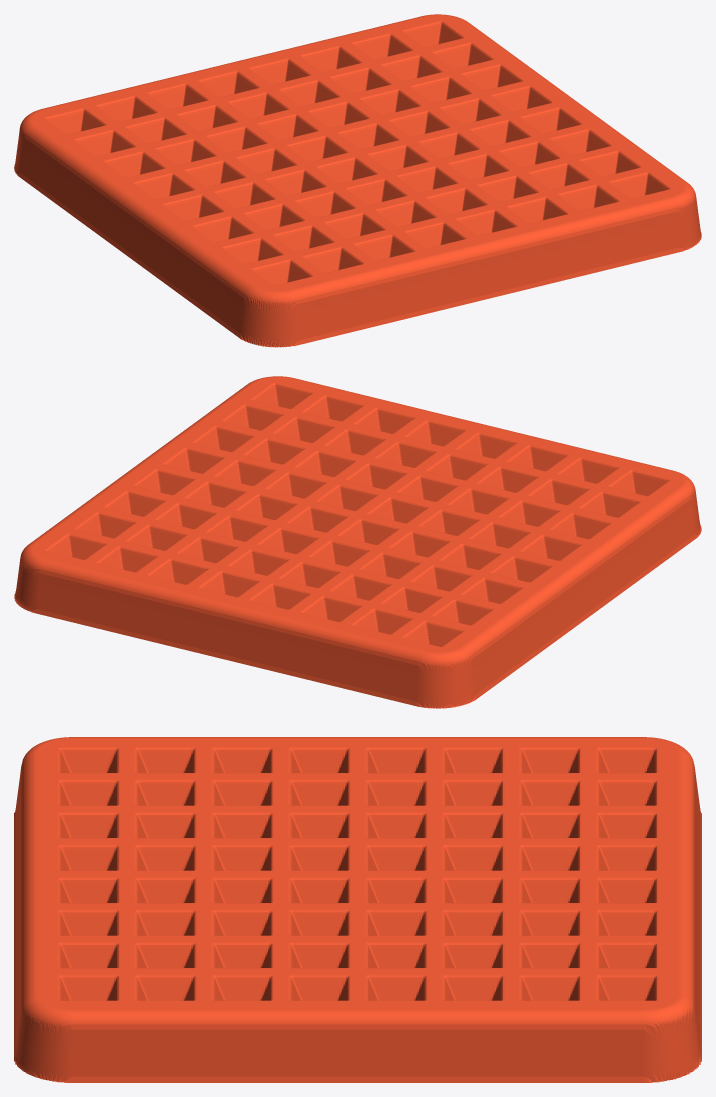
File: mold.glb
3 renders of one model, top to bottom at view 1: azimuth 30°, elevation 25°; view 2: azimuth 150°, elevation 25°; view 3: azimuth 270°, elevation 25°, orthographic. The views are drawn at different scales.
Parts seen in each view (by area): view 1: geometry_0; view 2: geometry_0; view 3: geometry_0.
Part boxes in pixels (box(x1,y1,x2,y2)): geometry_0: box(14, 14, 701, 347); geometry_0: box(14, 376, 701, 708); geometry_0: box(14, 737, 701, 1082).
Bounding box in the file's own units: 0.1067 × 0.0109 × 0.1067.
